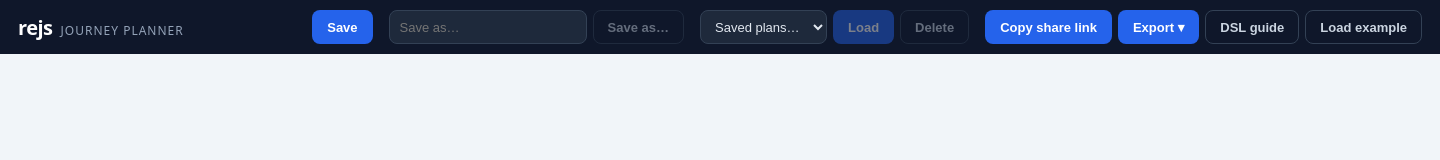
Toolbar export menu › closes on Escape without firing an action
This screenshot has width=1440, height=160.
Click the button "Export ▾" at (1159, 27), box [1118, 10, 1199, 44]
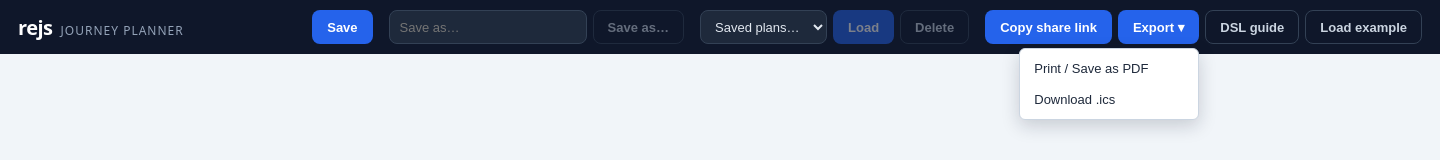
Press Escape
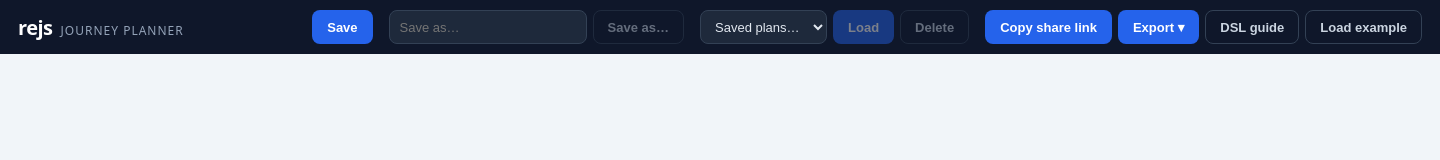
Expected: the menu is gone
